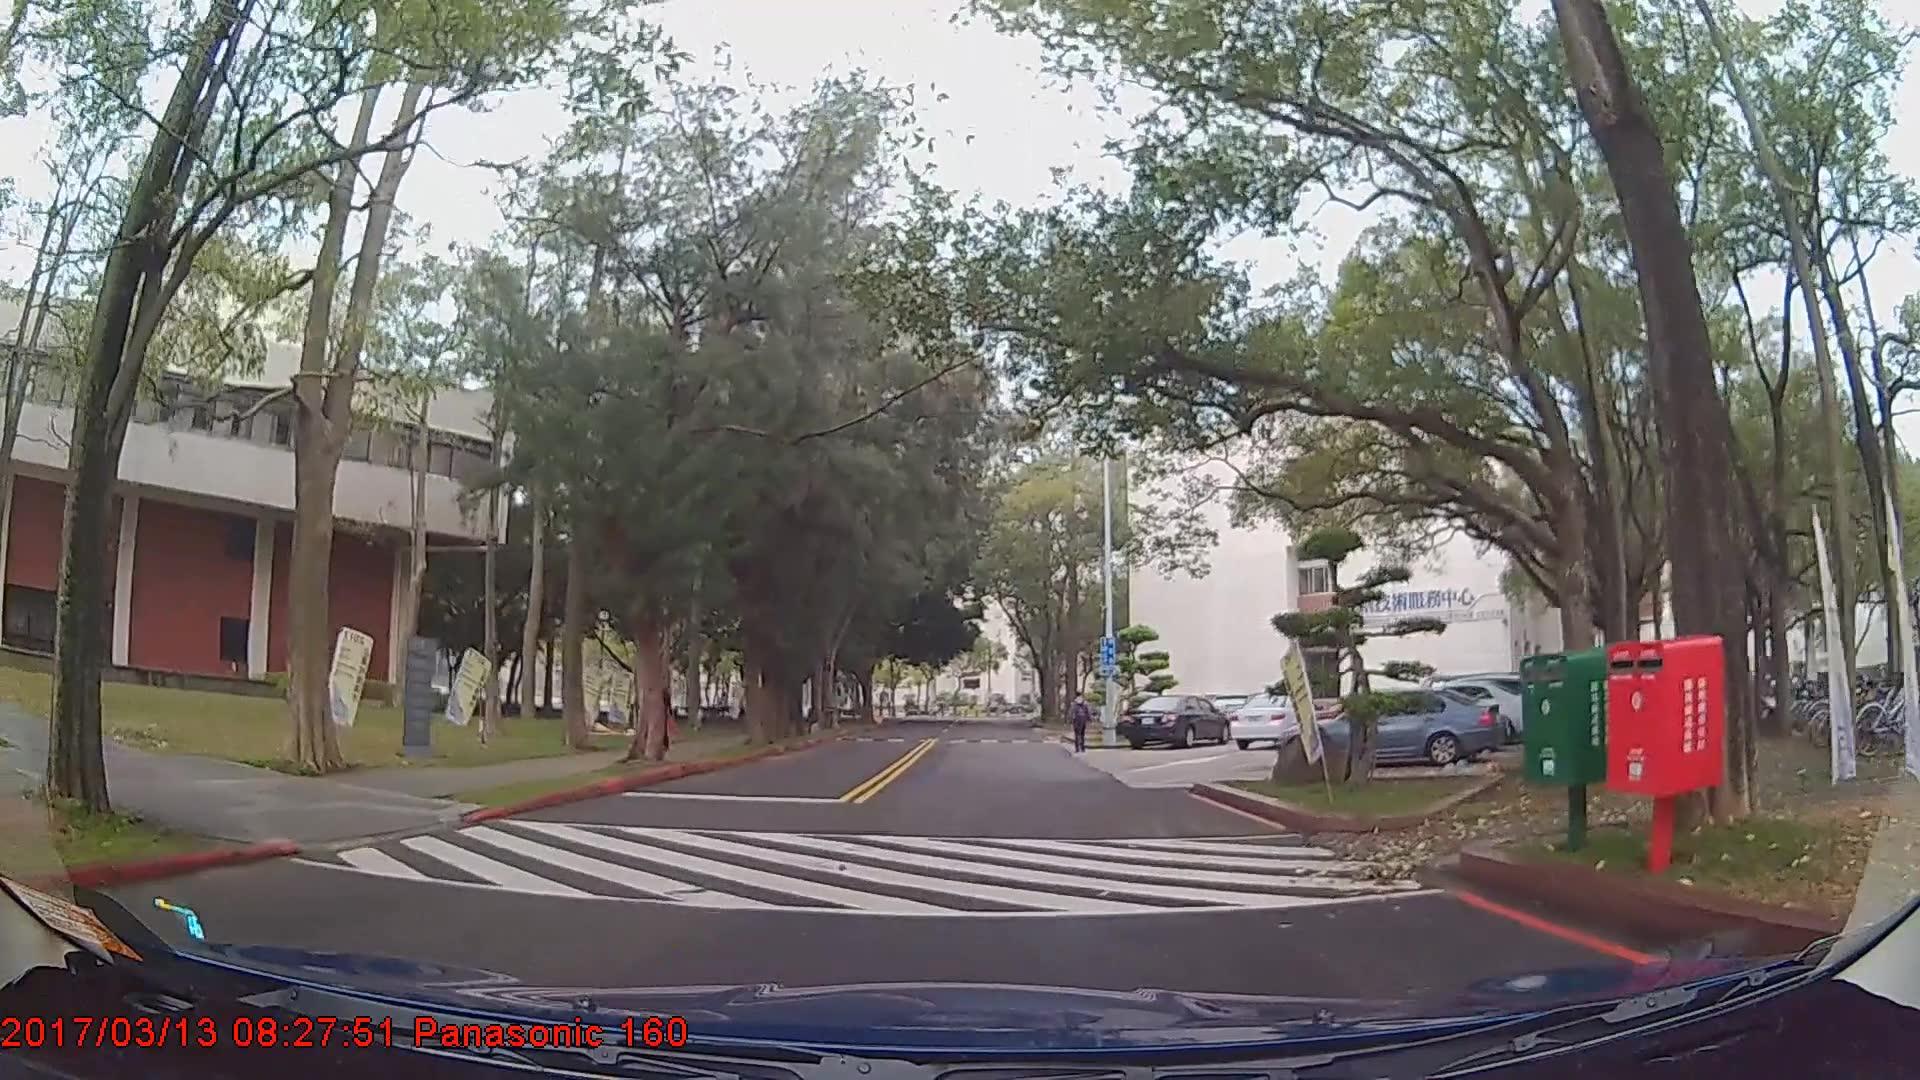pedestrian: (644, 671, 674, 752), (1068, 692, 1096, 755)
vehicle: (1273, 681, 1500, 776), (1116, 694, 1228, 747), (1227, 690, 1315, 749)
